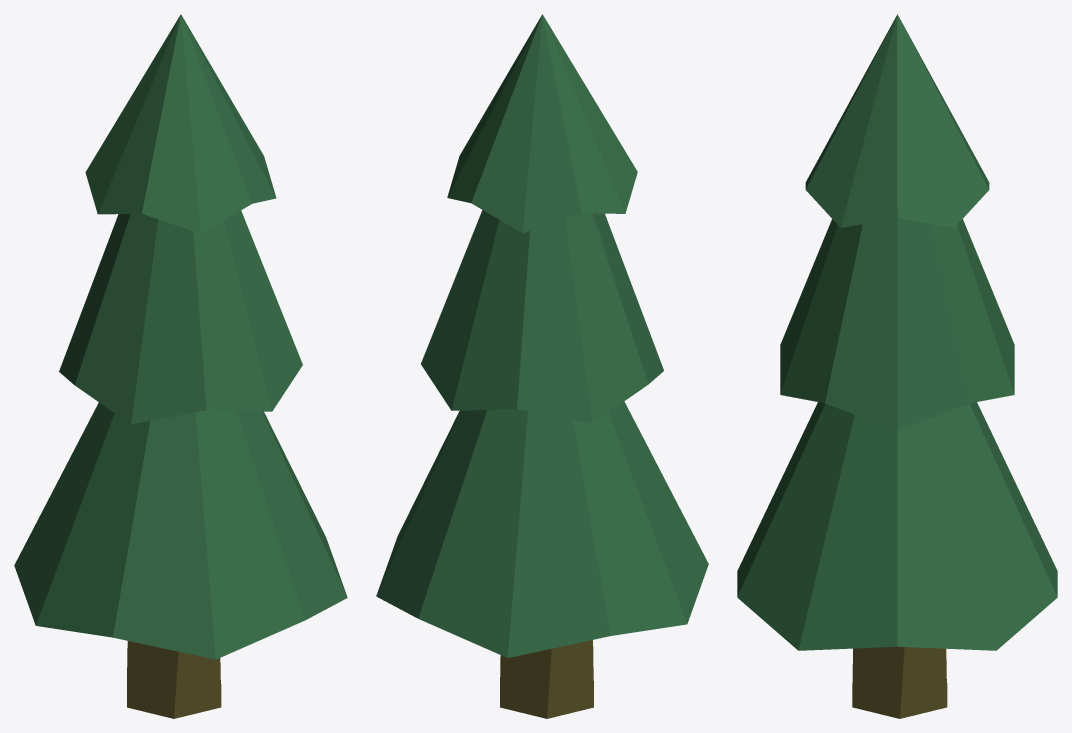
Rendered from pine tree 2.fbx.
3 renders of one model, left to right at view 1: azimuth 30°, elevation 25°; view 2: azimuth 150°, elevation 25°; view 3: azimuth 270°, elevation 25°, orthographic.
Visible parts, largest first — view 1: polySurface3; view 2: polySurface3; view 3: polySurface3.
Part boxes in pixels (bbox=[...]): polySurface3: bbox=[14, 14, 347, 718]; polySurface3: bbox=[376, 14, 708, 718]; polySurface3: bbox=[737, 14, 1057, 718].
Bounding box in the file's own units: 277 × 622 × 264.
